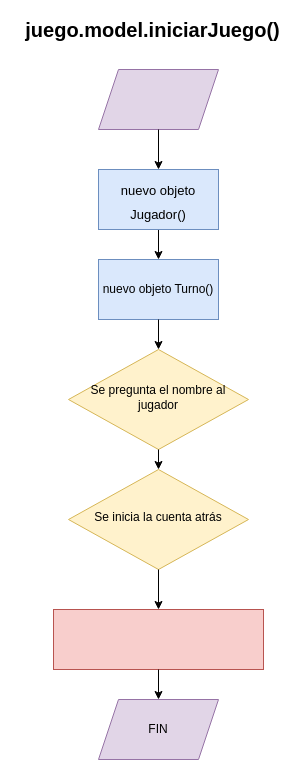
The diagram is 304 pixels wide and 777 high, and some of its shapes have lost their labels. The shapes that lost their labels are listed below. From the top down, each one's centre as x and y in pixels, then its label:
At (158,99): "INICIO".
At (158,639): "juego.model.randomizarFrase()".
